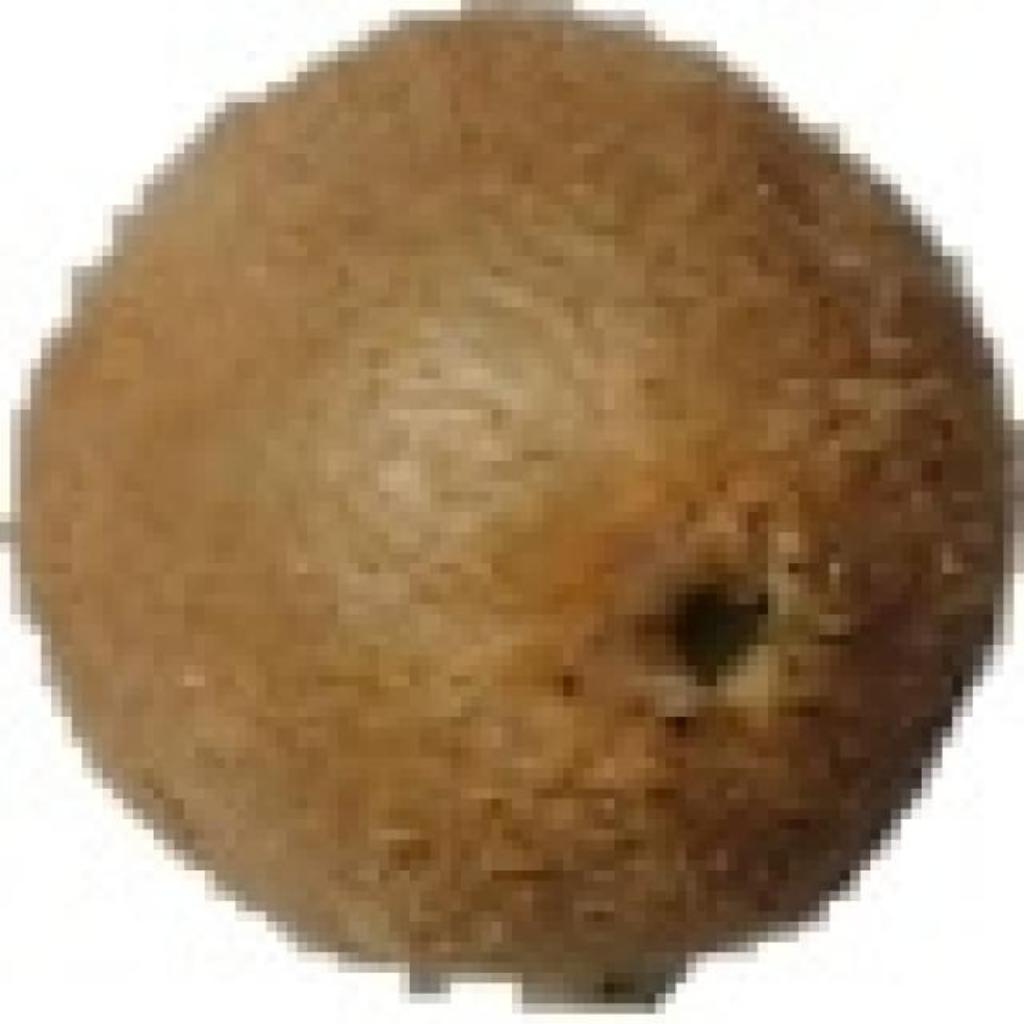kiwi: (10, 0, 983, 983)
